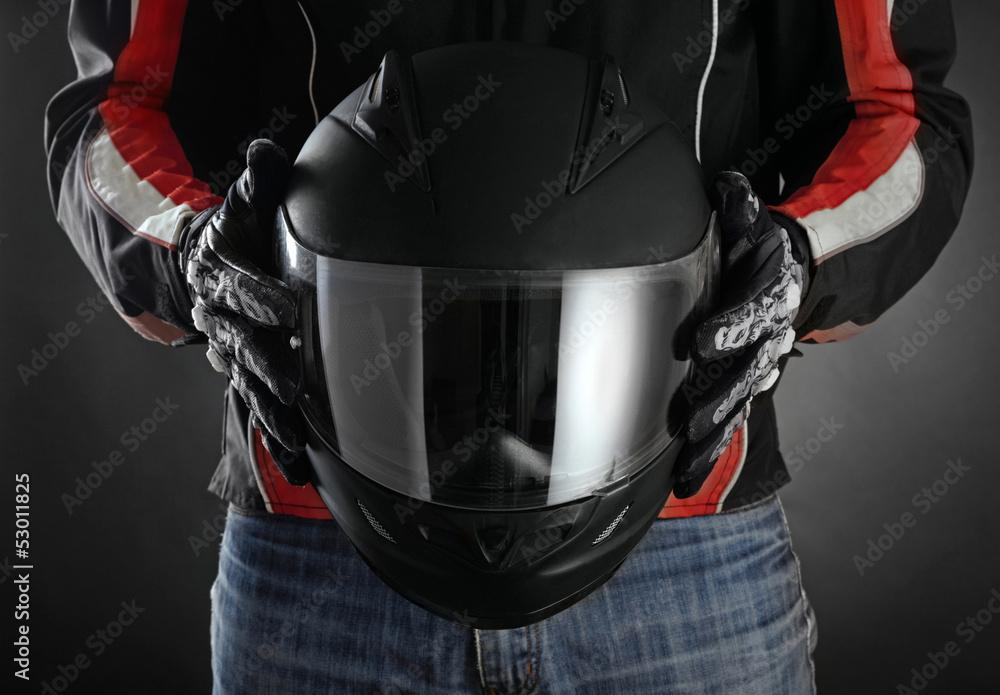helmet: (256, 35, 741, 634)
